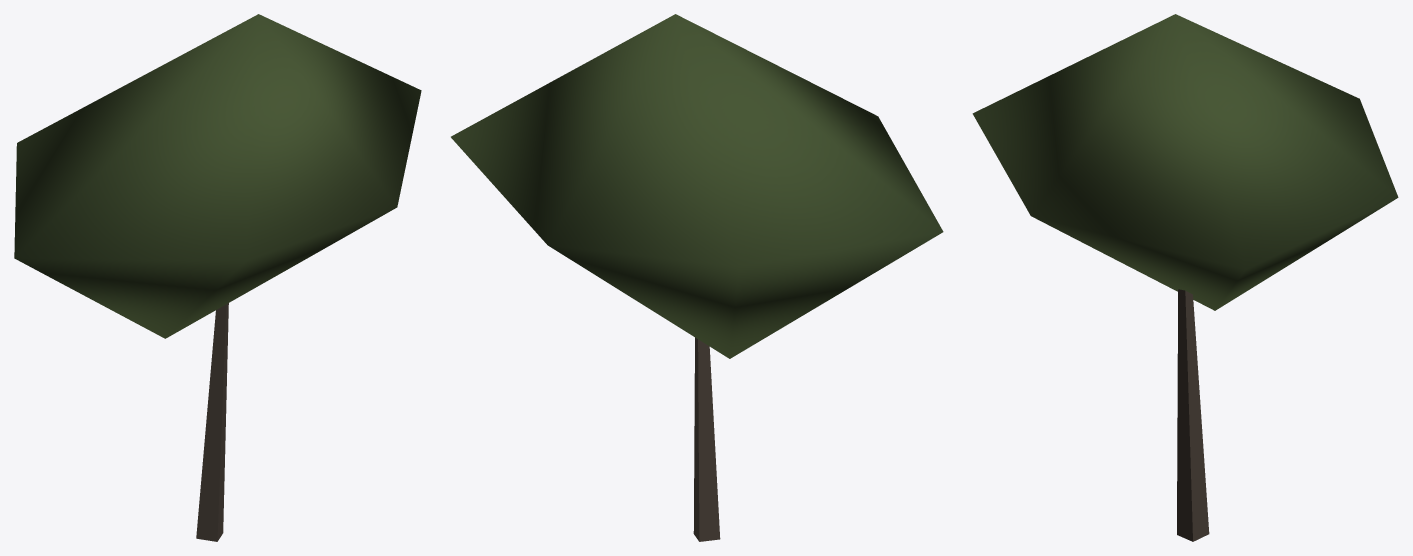
The model's file is dense_rounded_lod2.glb.
3 renders of one model, left to right at view 1: azimuth 30°, elevation 25°; view 2: azimuth 150°, elevation 25°; view 3: azimuth 270°, elevation 25°, orthographic. The views are drawn at different scales.
Parts seen in each view (by area): view 1: dense_rounded_LOD2; view 2: dense_rounded_LOD2; view 3: dense_rounded_LOD2.
Boxes of the visible parts, x1,y1,x2,y2 form: dense_rounded_LOD2: (14,14,421,541); dense_rounded_LOD2: (451,14,943,541); dense_rounded_LOD2: (972,14,1398,541).
Bounding box in the file's own units: 8.28 × 9.01 × 6.42.
